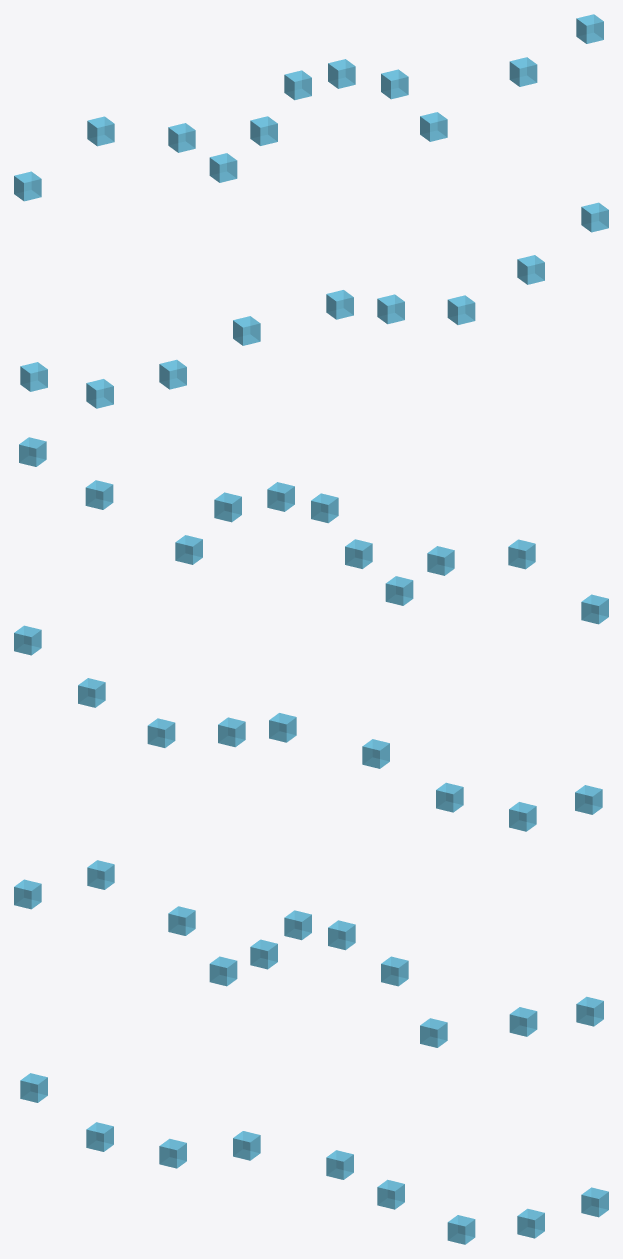
The model's file is SadBox.fbx.
The picture shows the model from 3 angles, top to bottom: view 1: azimuth 30°, elevation 25°; view 2: azimuth 150°, elevation 25°; view 3: azimuth 330°, elevation 25°; orthographic projection.
Visible parts, largest first — view 1: box; view 2: box; view 3: box.
Boxes of the visible parts, box(x1,y1,x2,y2) form: box: box(14, 14, 608, 408); box: box(14, 437, 608, 831); box: box(14, 860, 608, 1244).
Size of the model in its own units: 467 by 14 by 218.
